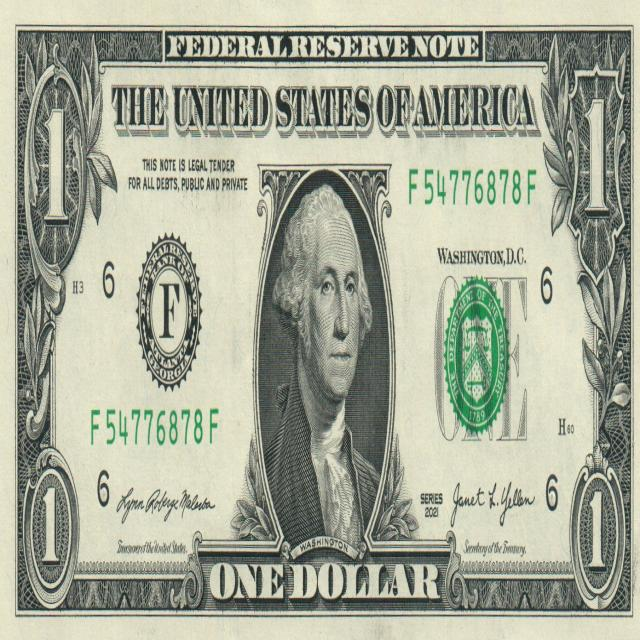SerialNumber: (91, 409, 218, 445), (409, 169, 536, 205)
